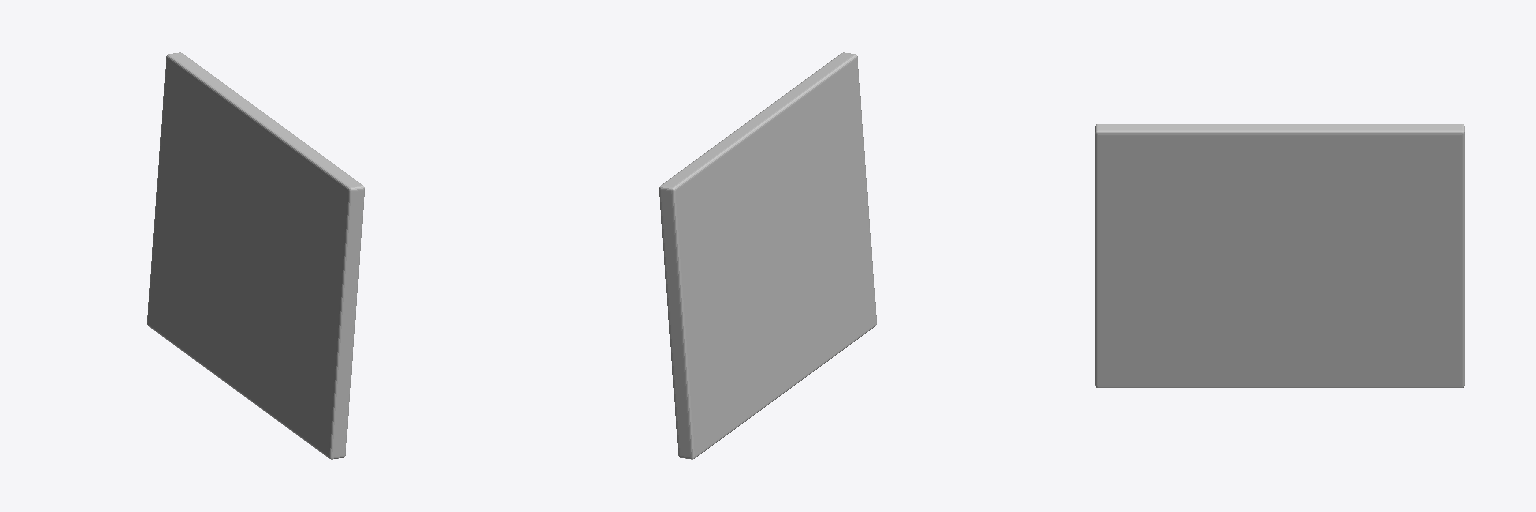
Rendered from canvas.obj.
The picture shows the model from 3 angles: view 1: azimuth 30°, elevation 25°; view 2: azimuth 150°, elevation 25°; view 3: azimuth 270°, elevation 25°; orthographic projection.
Visible parts, largest first — view 1: Plane; view 2: Plane; view 3: Plane.
Part boxes in pixels (left/top/right/bottom): Plane: left=147, top=52, right=364, bottom=459; Plane: left=659, top=52, right=876, bottom=459; Plane: left=1095, top=124, right=1464, bottom=387.
Bounding box in the file's own units: 0.1318 × 0.9511 × 1.19.